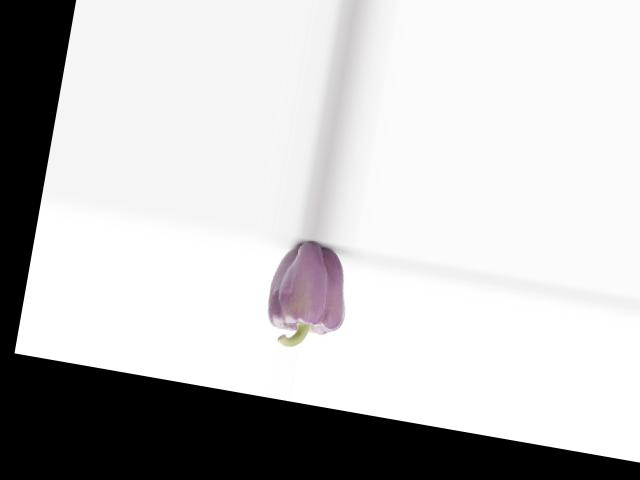bell_pepper: (252, 236, 362, 354)
